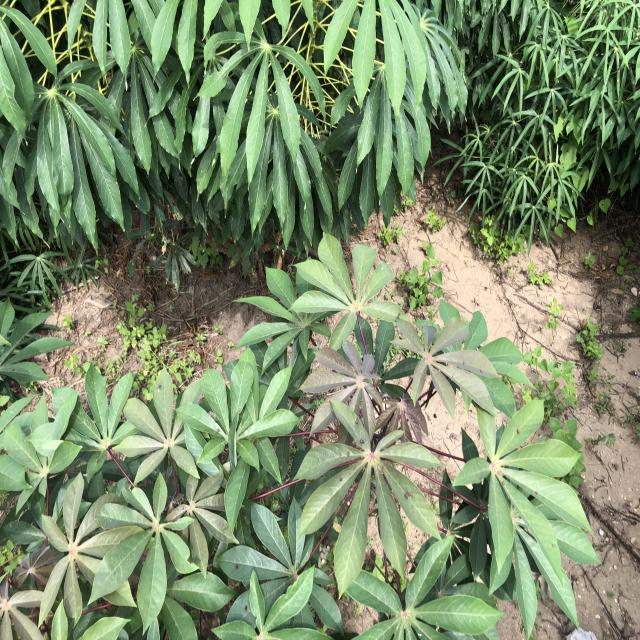Mosca: (349, 430, 368, 447), (237, 601, 256, 617), (400, 486, 416, 503), (335, 468, 351, 485), (208, 422, 225, 437), (510, 425, 525, 438), (476, 364, 489, 379), (231, 556, 243, 572), (154, 376, 167, 390), (350, 410, 361, 422), (456, 355, 464, 366)
